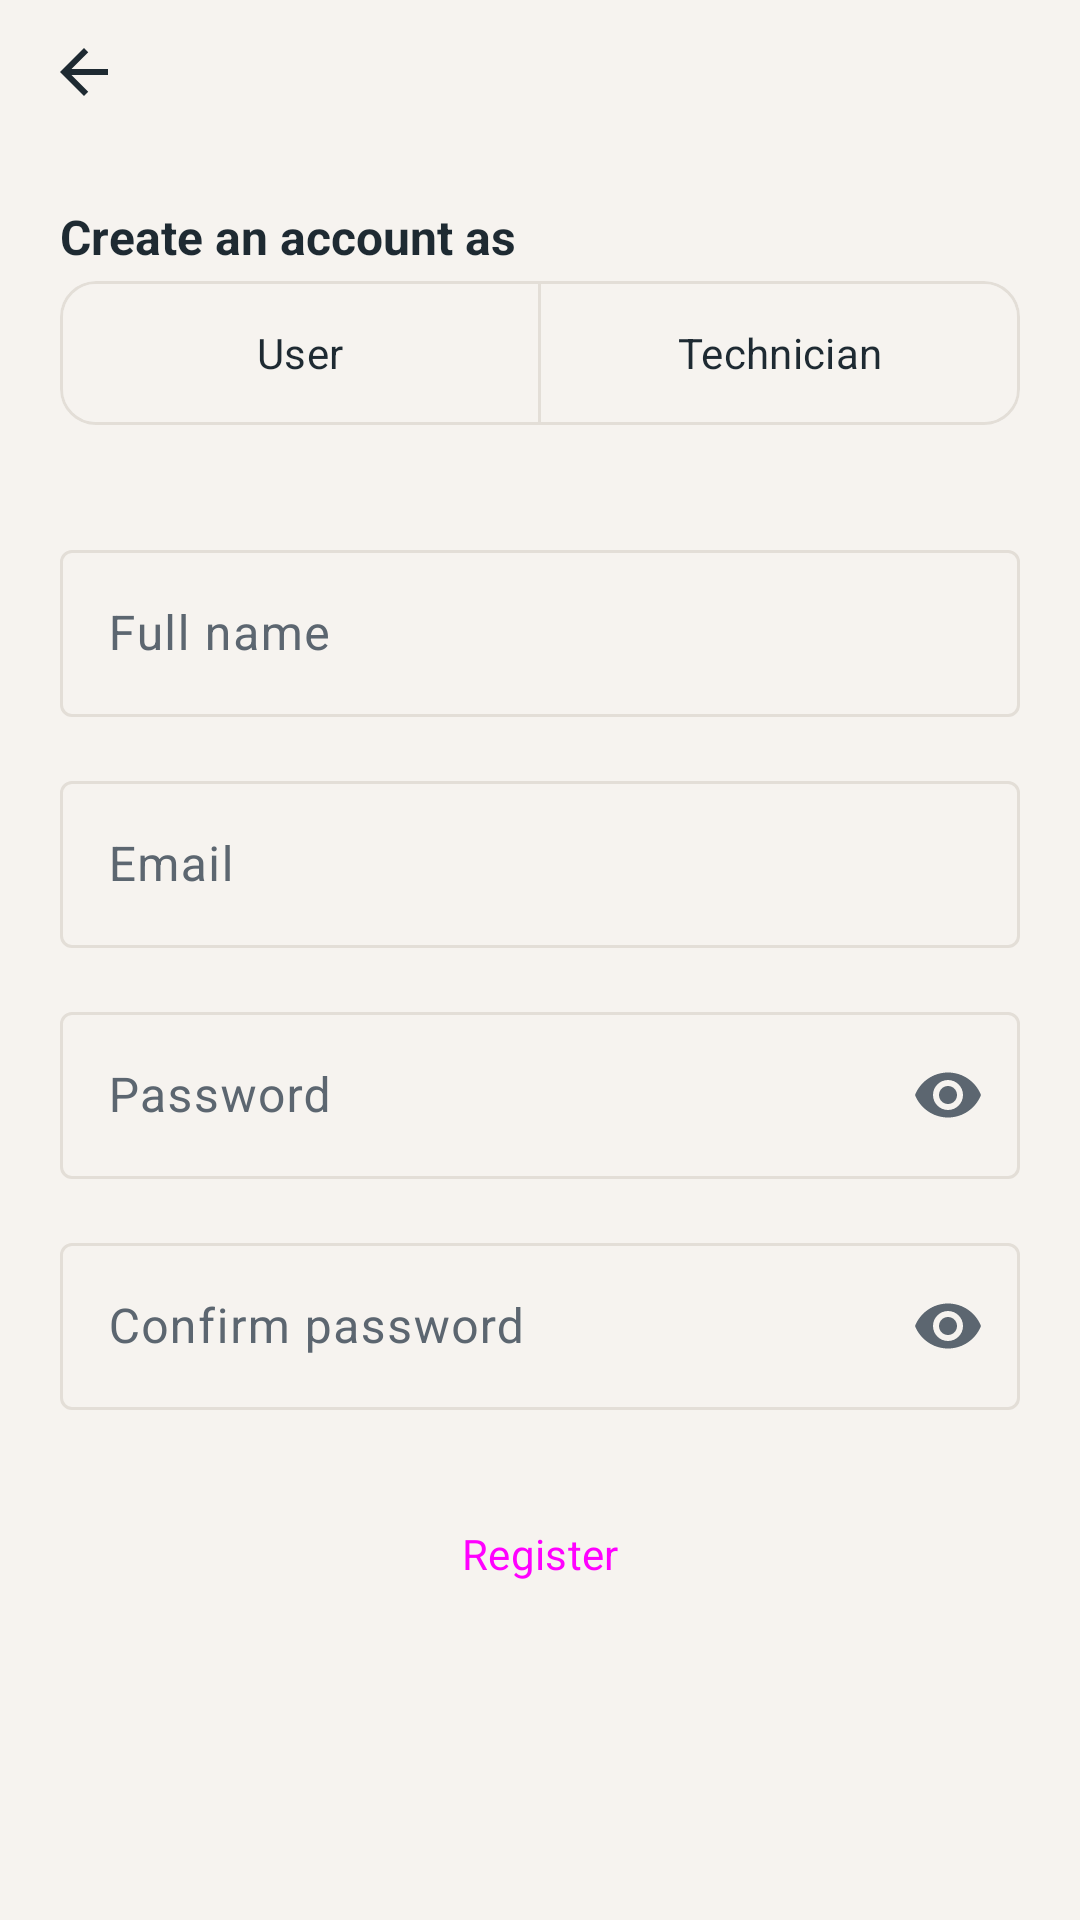

Icon click points for this 1080px x 1920px phone screenshot, format (x,y):
Back: (84,72)
